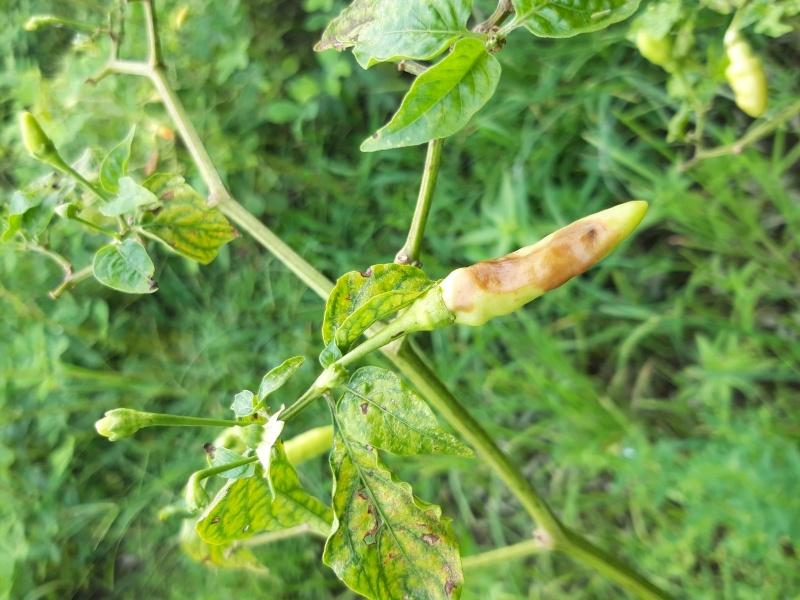cabai_normal: (726, 54, 766, 119)
lalat_buah: (438, 198, 648, 326)
